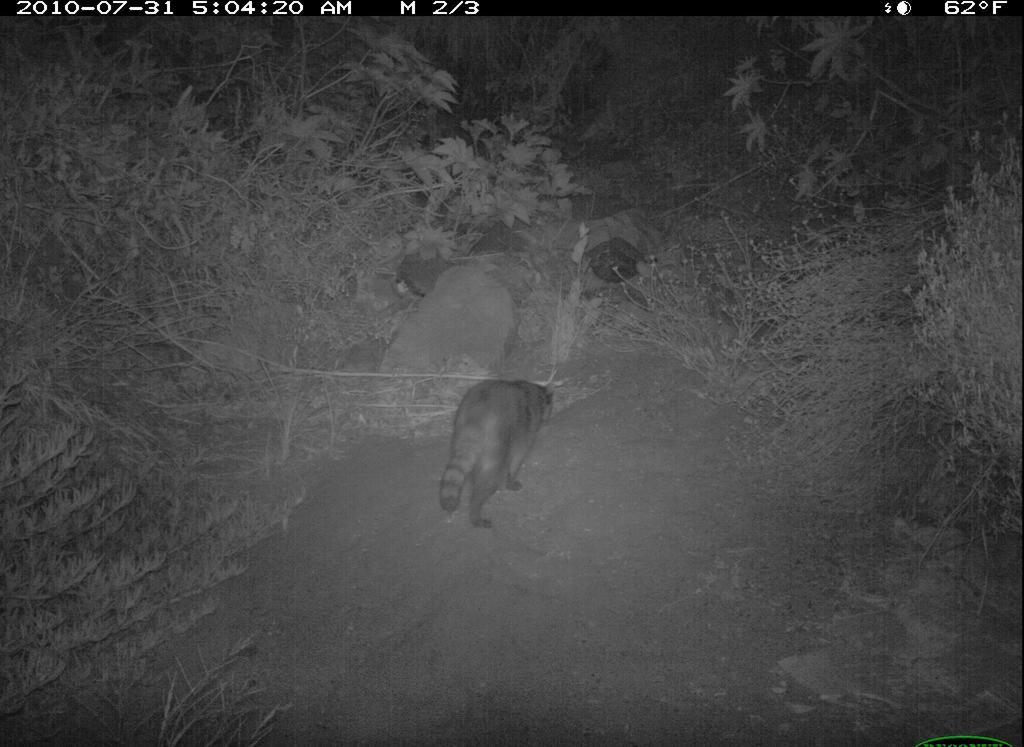raccoon: (433, 369, 560, 541)
